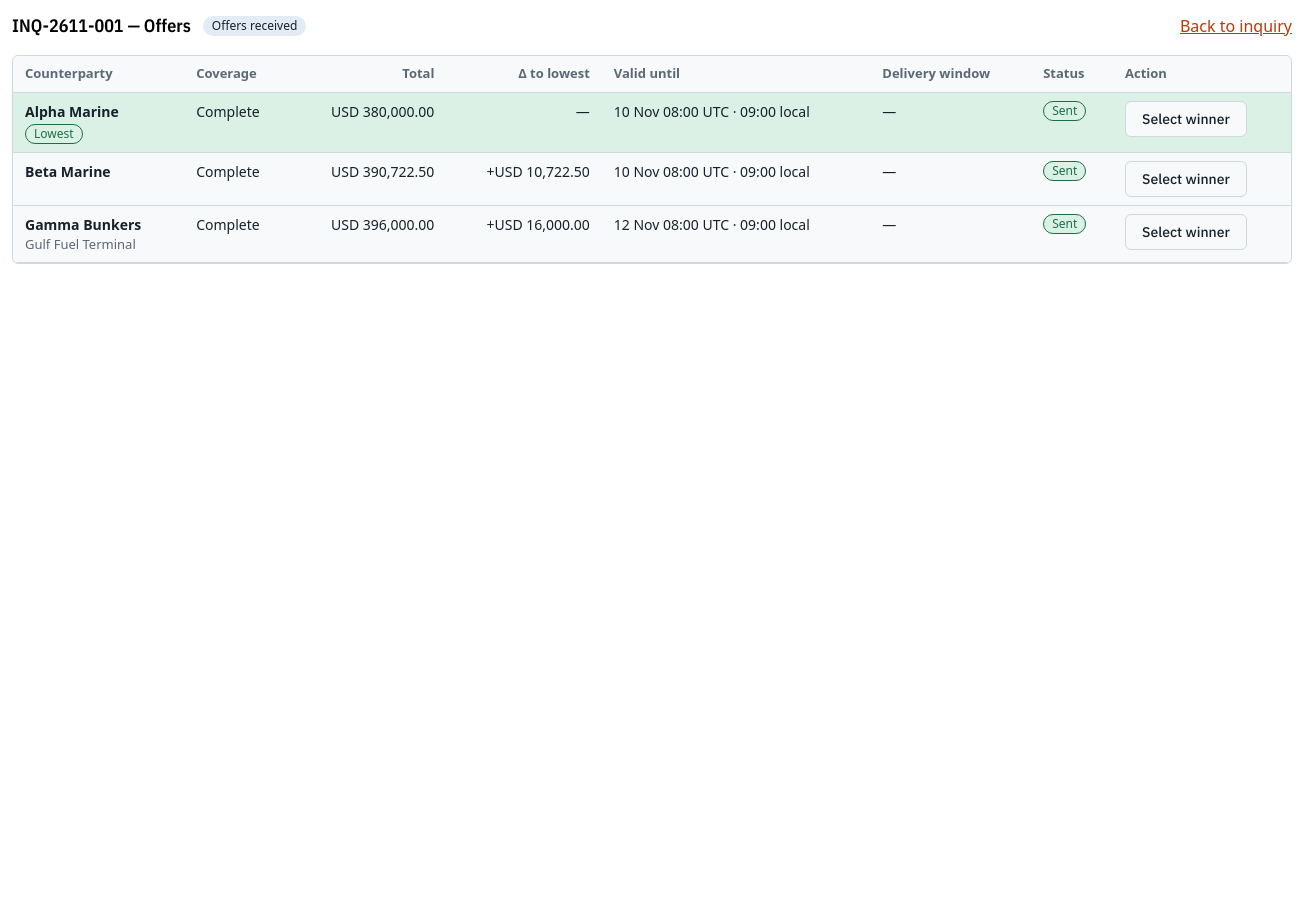
Test case: Comparison › [B4-R12] the engine's 422 lands on the reason field
This screenshot has width=1304, height=912.
Click the button "Select winner" in the row of "Beta Marine" at coordinates (1186, 178), box left=1125, top=160, right=1247, bottom=196
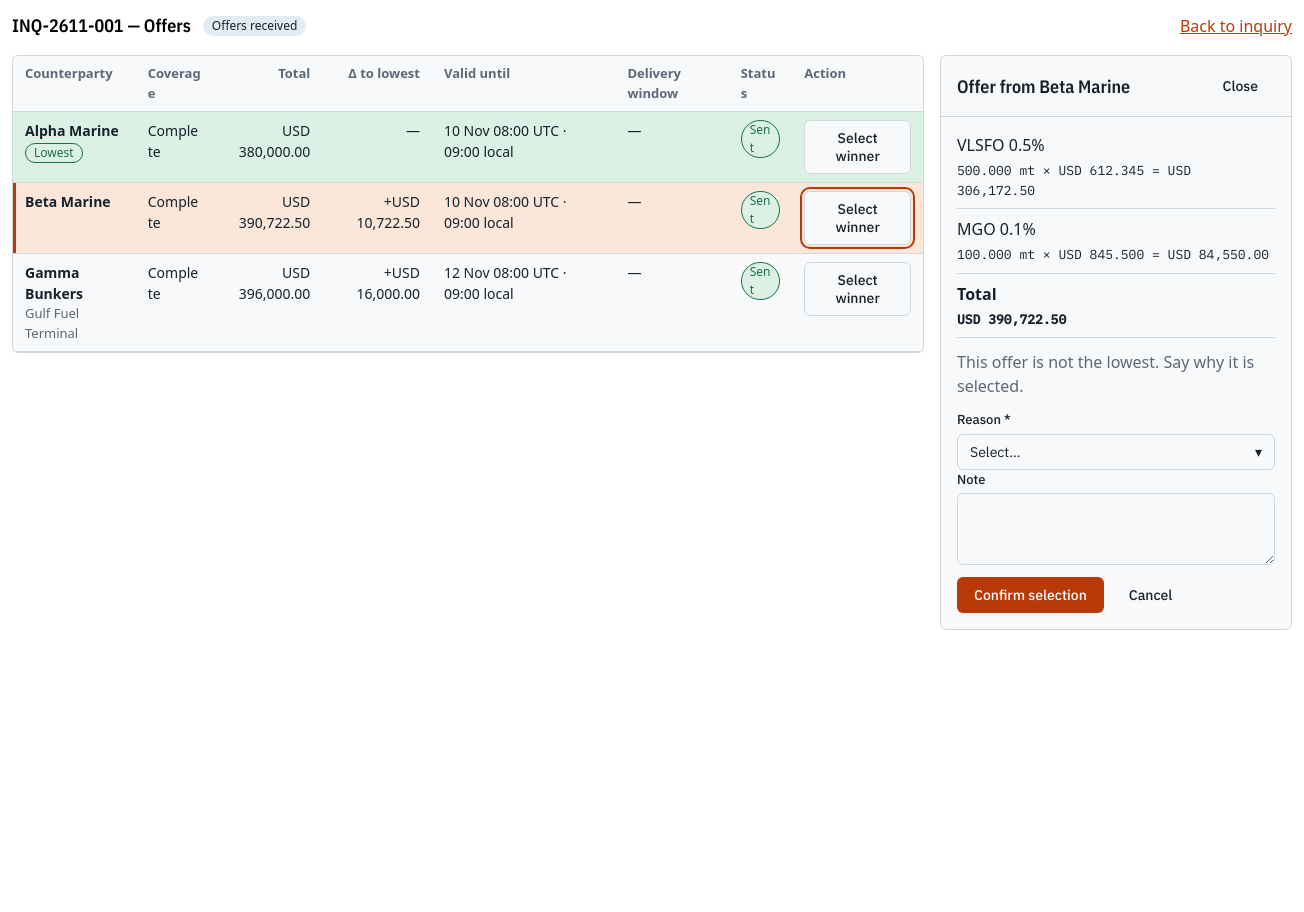
Click the dropdown named "Reason" at coordinates (995, 452), box left=957, top=434, right=1275, bottom=470
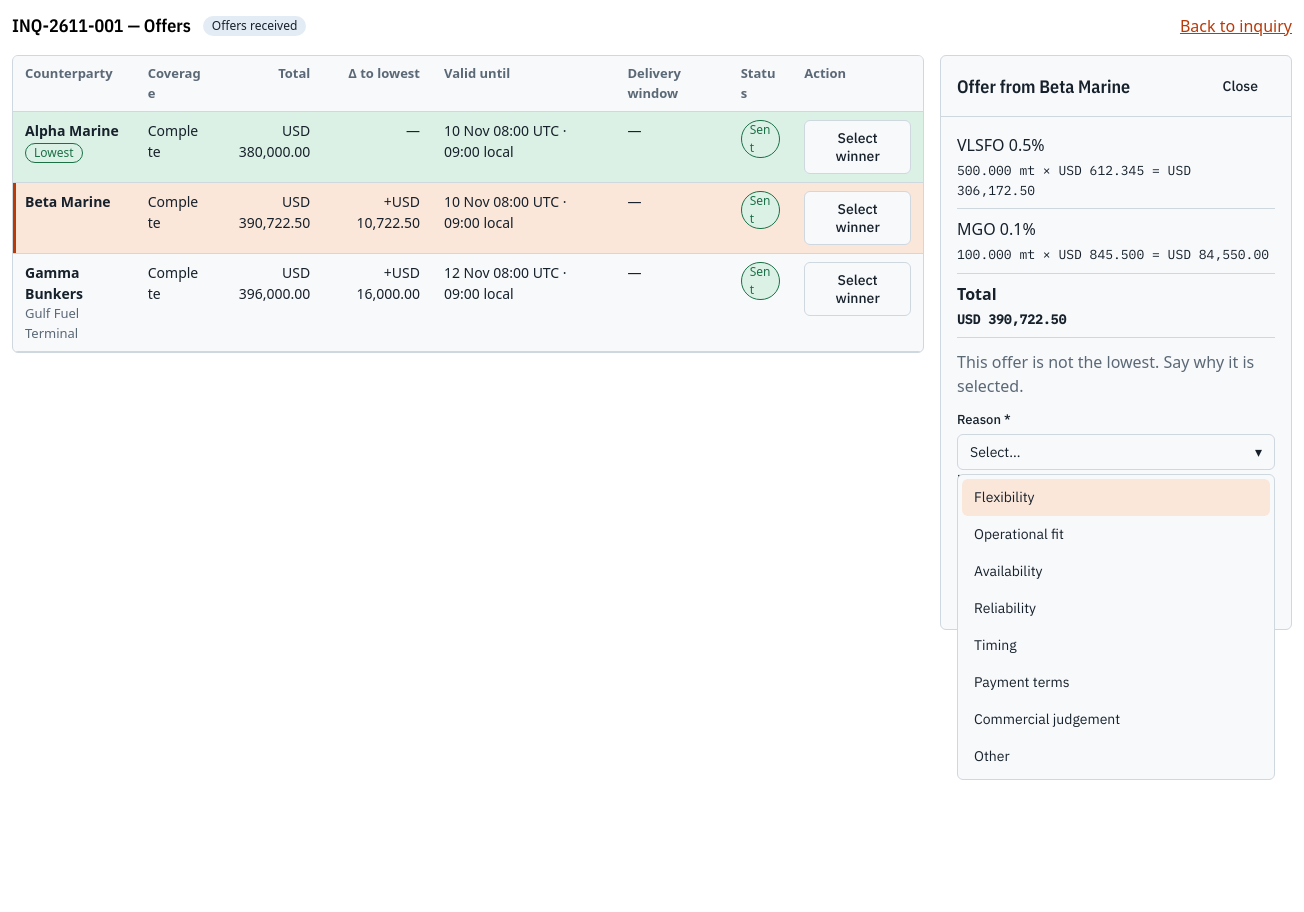
Click the option "Timing" at coordinates (995, 645), box left=974, top=636, right=1017, bottom=654
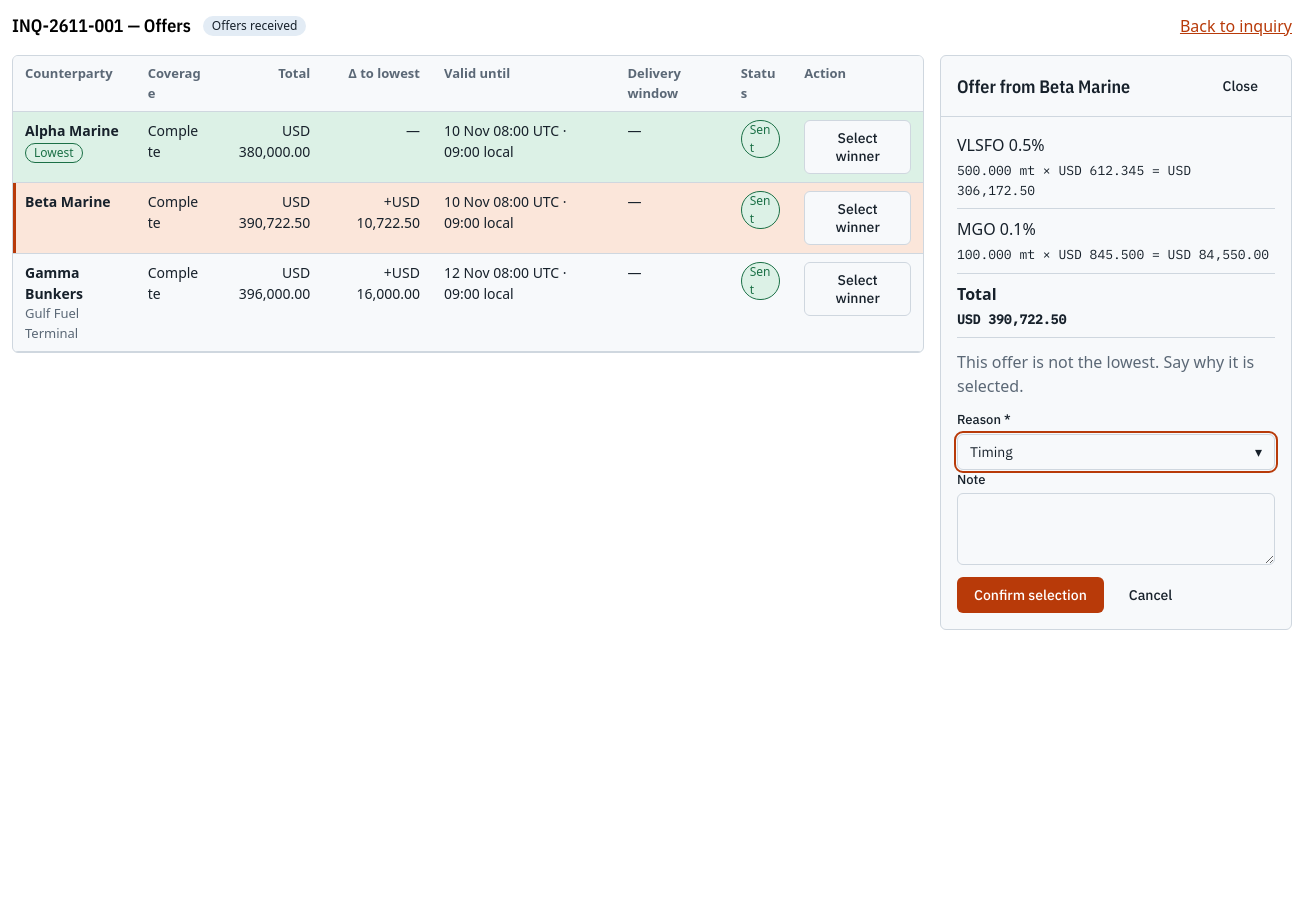
Click the button "Confirm selection" at coordinates (1030, 595), box left=957, top=577, right=1104, bottom=613
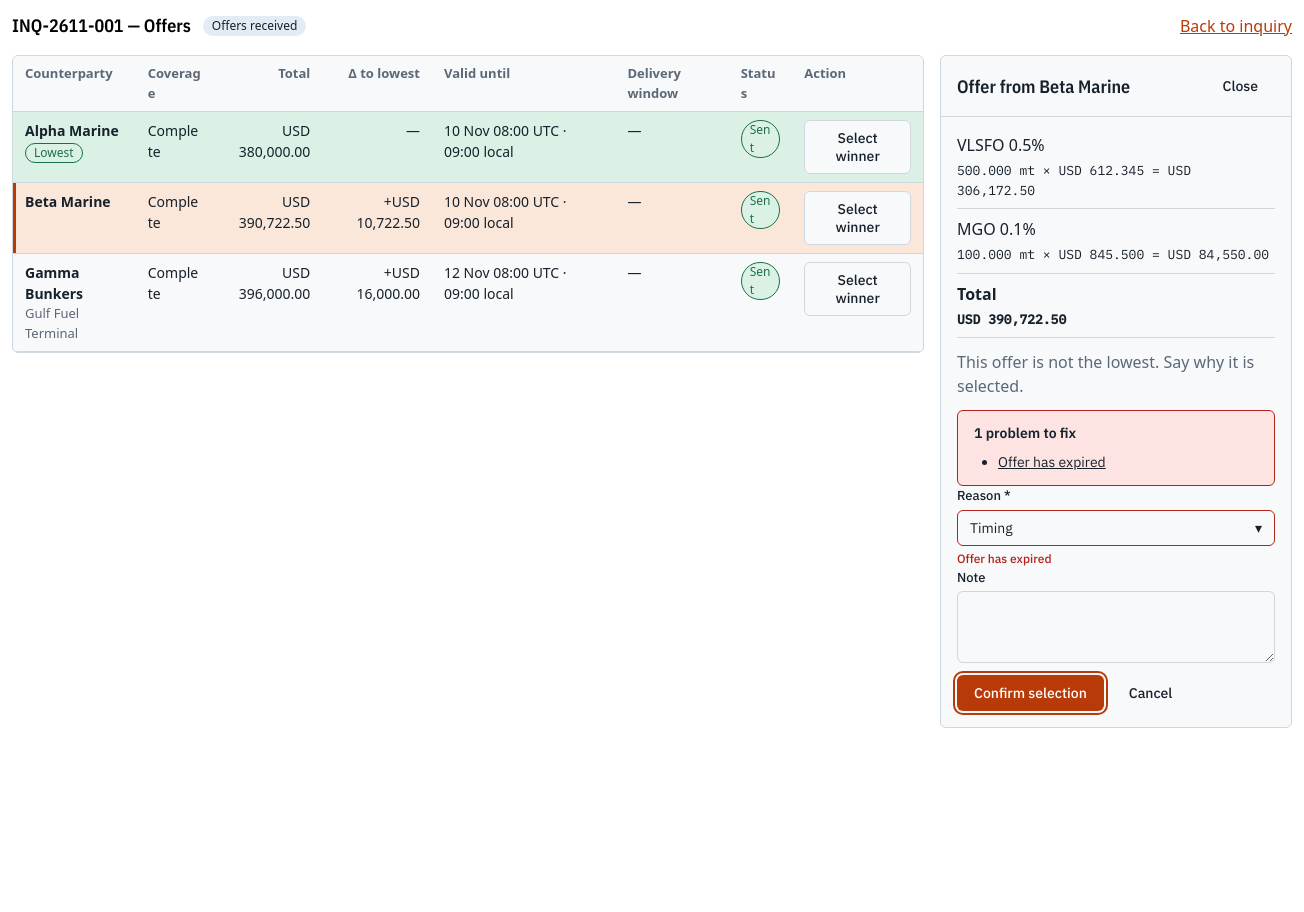
Expected: the link "Offer has expired" is shown, left=998, top=453, right=1106, bottom=471
